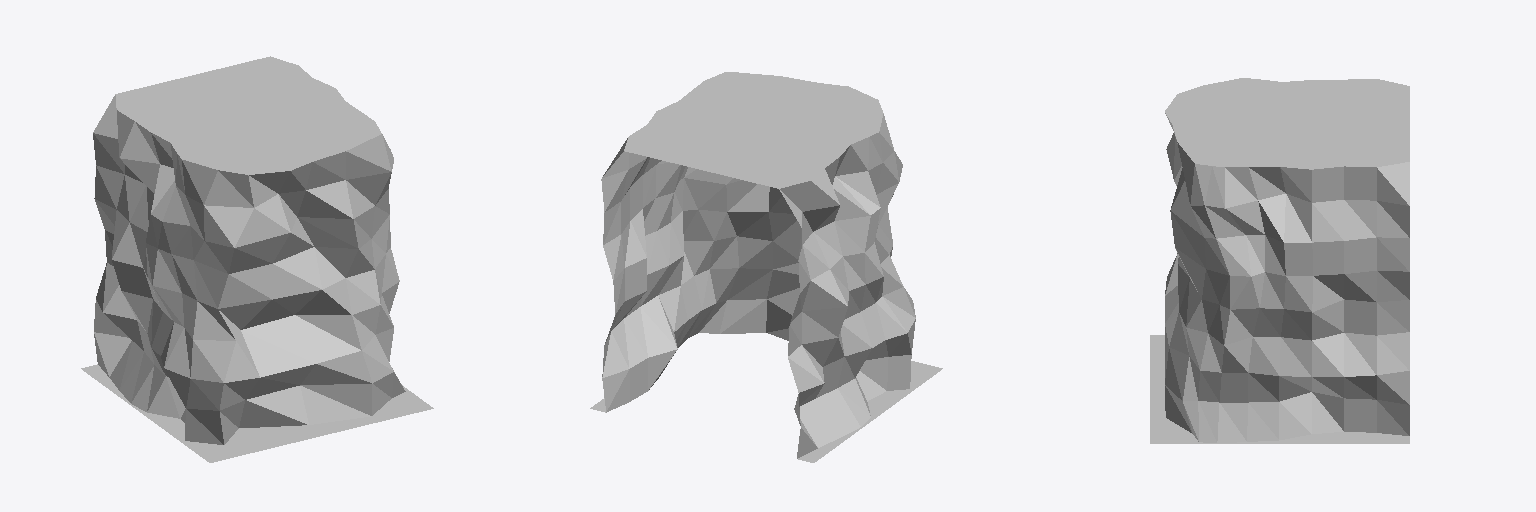
Rendered from dirt_three_sided_end.obj.
3 renders of one model, left to right at view 1: azimuth 30°, elevation 25°; view 2: azimuth 150°, elevation 25°; view 3: azimuth 270°, elevation 25°, orthographic.
Parts seen in each view (by area): view 1: dirt_ext_wall_end.obj; view 2: dirt_ext_wall_end.obj; view 3: dirt_ext_wall_end.obj.
Part boxes in pixels (left/top/right/bottom): dirt_ext_wall_end.obj: left=81, top=56, right=433, bottom=462; dirt_ext_wall_end.obj: left=590, top=72, right=942, bottom=462; dirt_ext_wall_end.obj: left=1150, top=78, right=1409, bottom=443.
Bounding box in the file's own units: 2.58 × 2.83 × 2.5.